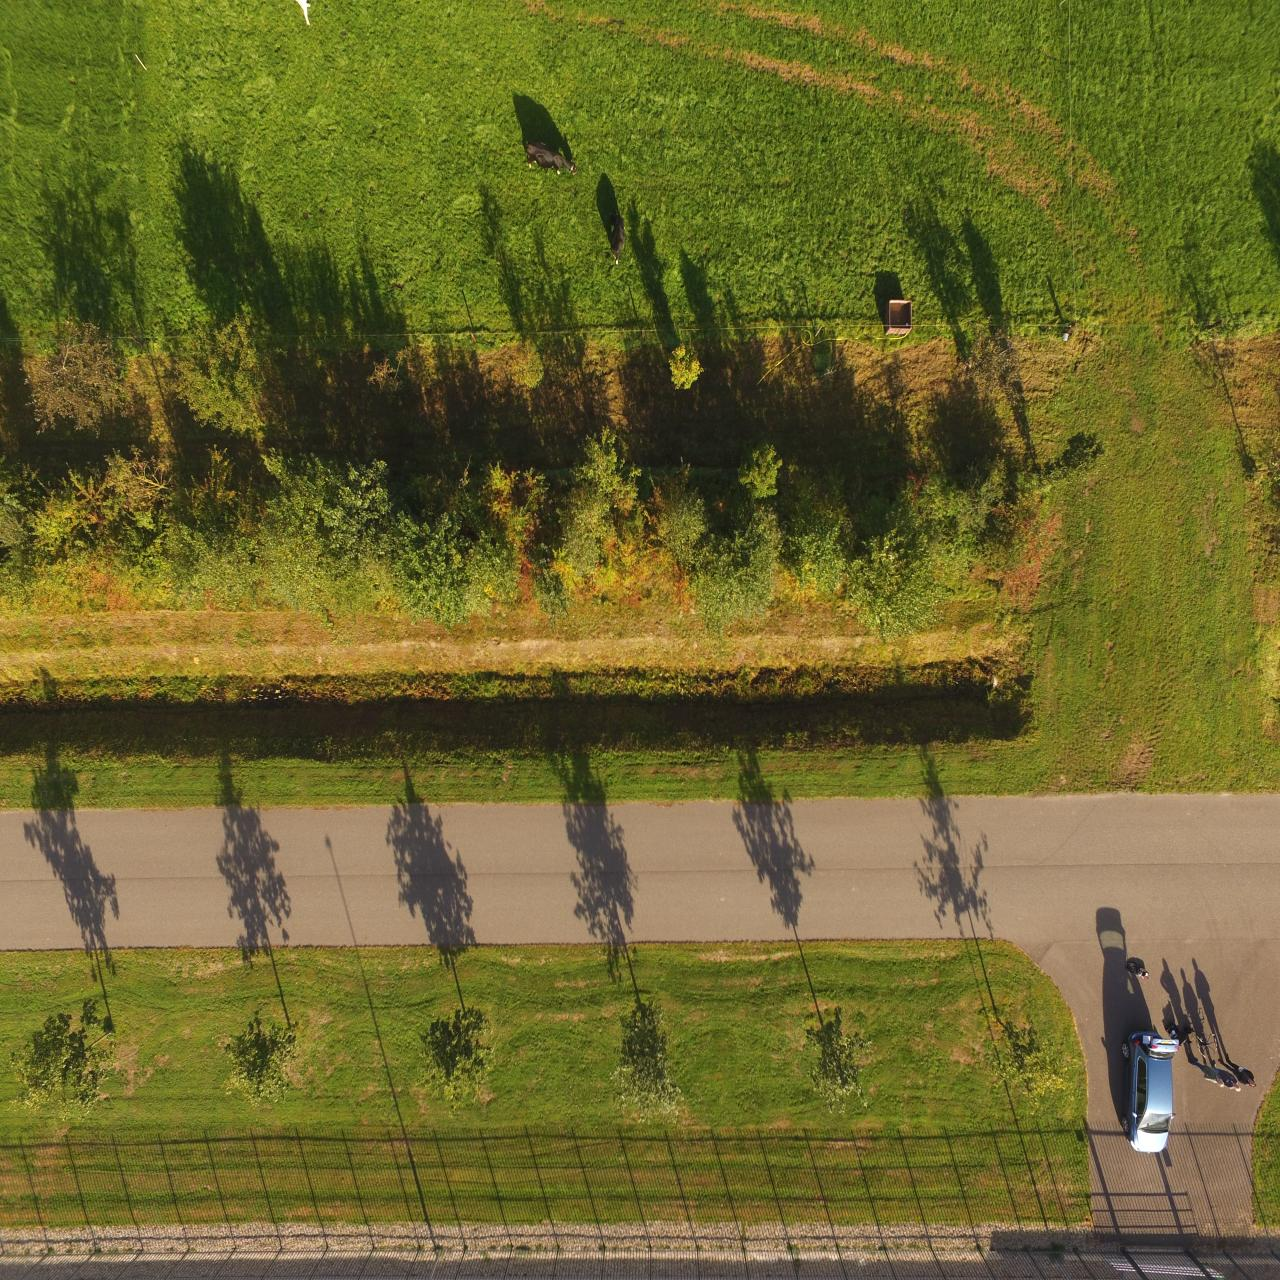cow: (520, 139, 576, 179), (604, 211, 627, 266)
